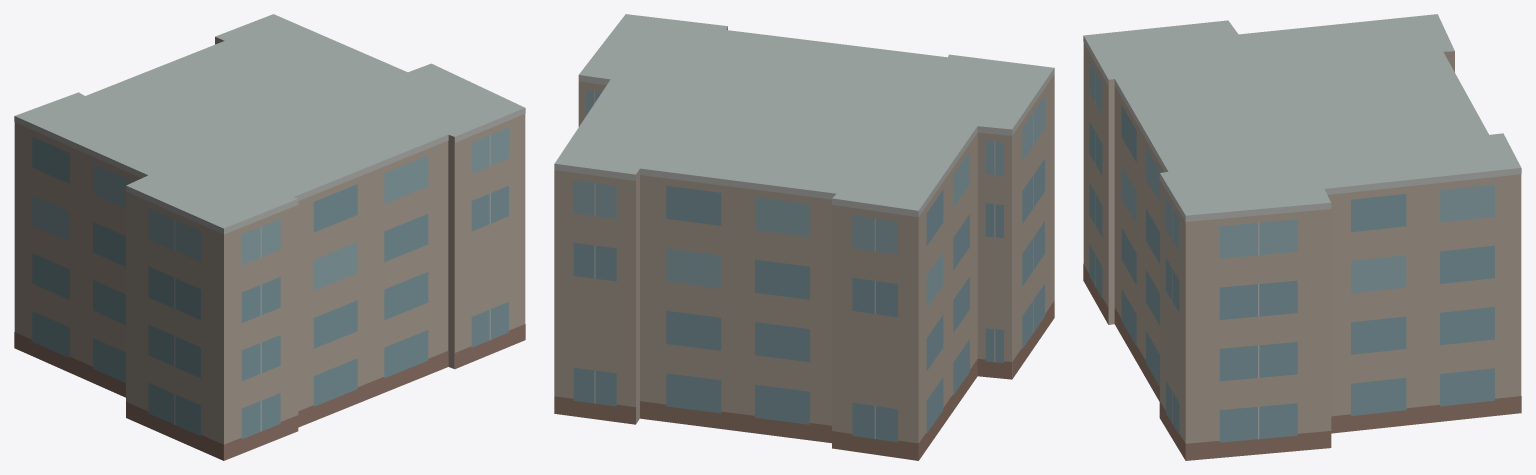
File: survey-upis-32812531.glb
3 renders of one model, left to right at view 1: azimuth 30°, elevation 25°; view 2: azimuth 150°, elevation 25°; view 3: azimuth 270°, elevation 25°, orthographic. The views are drawn at different scales.
Parts seen in each view (by area): view 1: survey-upis-32812531.tmp; view 2: survey-upis-32812531.tmp; view 3: survey-upis-32812531.tmp.
Part boxes in pixels (x1,y1,x2,y2): survey-upis-32812531.tmp: (14, 14, 525, 460); survey-upis-32812531.tmp: (554, 14, 1054, 460); survey-upis-32812531.tmp: (1083, 14, 1521, 460).
Size of the model in its own units: 16.77 by 9.5 by 15.39.
